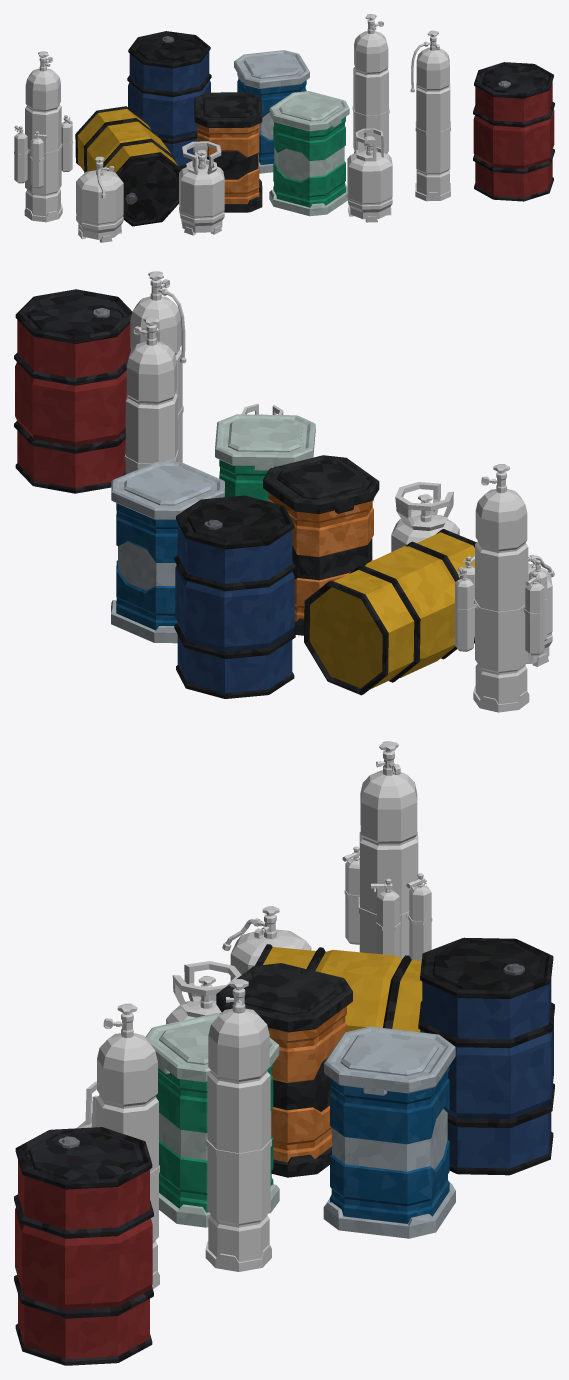
The model's file is Low Poly Industrial Pack.fbx.
The picture shows the model from 3 angles, top to bottom: view 1: azimuth 30°, elevation 25°; view 2: azimuth 150°, elevation 25°; view 3: azimuth 270°, elevation 25°; orthographic projection. The views are drawn at different scales.
Visible parts, largest first — view 1: barrel1, container2, barrel3, barrel2, tall cylinder2, container1, tall cylinder1, container3, tall cylinder3, small cylinder2, small cylinder3, small cylinder1; view 2: barrel3, barrel1, barrel2, tall cylinder2, container3, container1, tall cylinder3, container2, tall cylinder1, small cylinder2, small cylinder1; view 3: barrel1, barrel3, container3, tall cylinder3, container1, tall cylinder2, container2, tall cylinder1, barrel2, small cylinder1, small cylinder2.
Part boxes in pixels (x1,y1,x2,y2): barrel1: (473,62,554,201); container2: (269,91,349,216); barrel3: (127,31,211,168); barrel2: (75,106,181,226); tall cylinder2: (14,51,73,222); container1: (194,92,262,212); tall cylinder1: (410,30,450,201); container3: (234,50,309,173); tall cylinder3: (352,14,389,153); small cylinder2: (179,141,224,235); small cylinder3: (347,128,392,222); small cylinder1: (76,156,123,242); barrel3: (174,495,295,698); barrel1: (14,289,132,493); barrel2: (304,529,476,695); tall cylinder2: (455,464,547,712); container3: (111,462,224,643); container1: (263,455,379,635); tall cylinder3: (124,316,178,474); container2: (215,414,315,501); tall cylinder1: (130,271,186,462); small cylinder2: (391,482,459,551); small cylinder1: (526,554,554,666); barrel1: (14,1127,153,1365); barrel3: (418,937,554,1175); container3: (323,1026,455,1238); tall cylinder3: (205,979,271,1271); container1: (216,963,352,1177); tall cylinder2: (342,741,432,960); container2: (145,1013,279,1227); tall cylinder1: (96,1003,159,1289); barrel2: (255,944,422,1032); small cylinder1: (222,906,311,980); small cylinder2: (166,961,241,1024).
Bounding box in the file's own units: 2140 × 741 × 1316.
